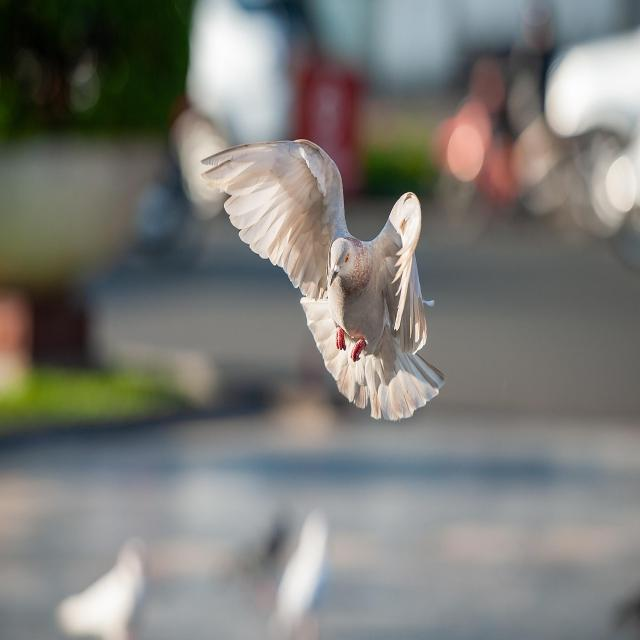pegion: (179, 88, 560, 464)
